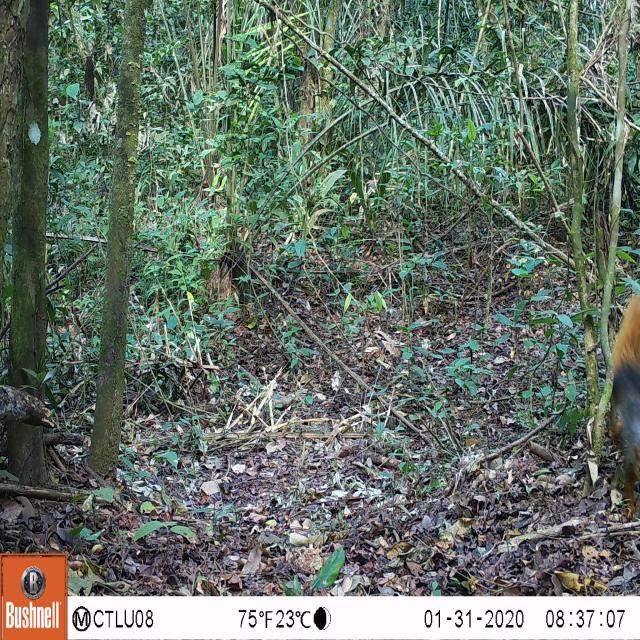Squirrel: (588, 263, 640, 513)
